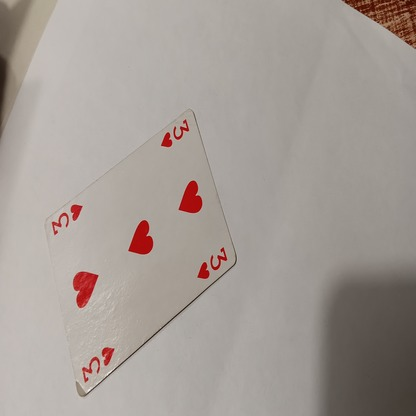3h: (196, 245, 229, 279), (82, 348, 114, 383), (48, 204, 82, 234), (161, 116, 188, 147)
